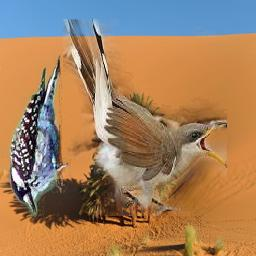Cuckoo: (63, 20, 227, 217)
Woodpecker: (1, 48, 79, 220)
